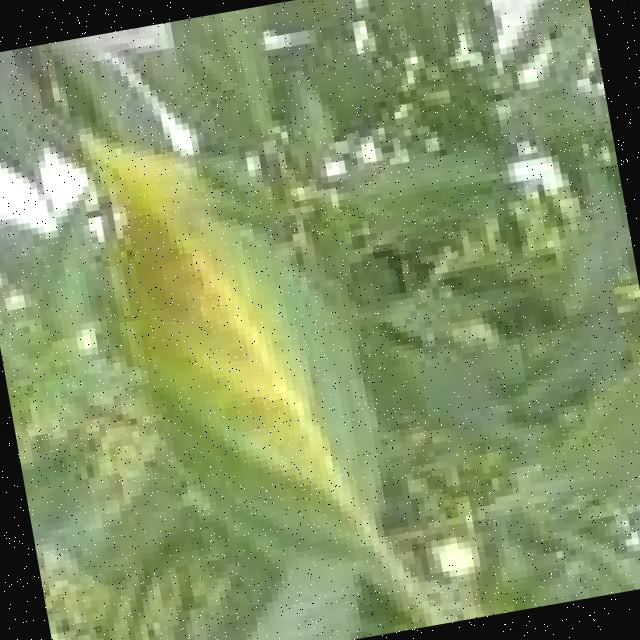yellow: (0, 67, 471, 640)
